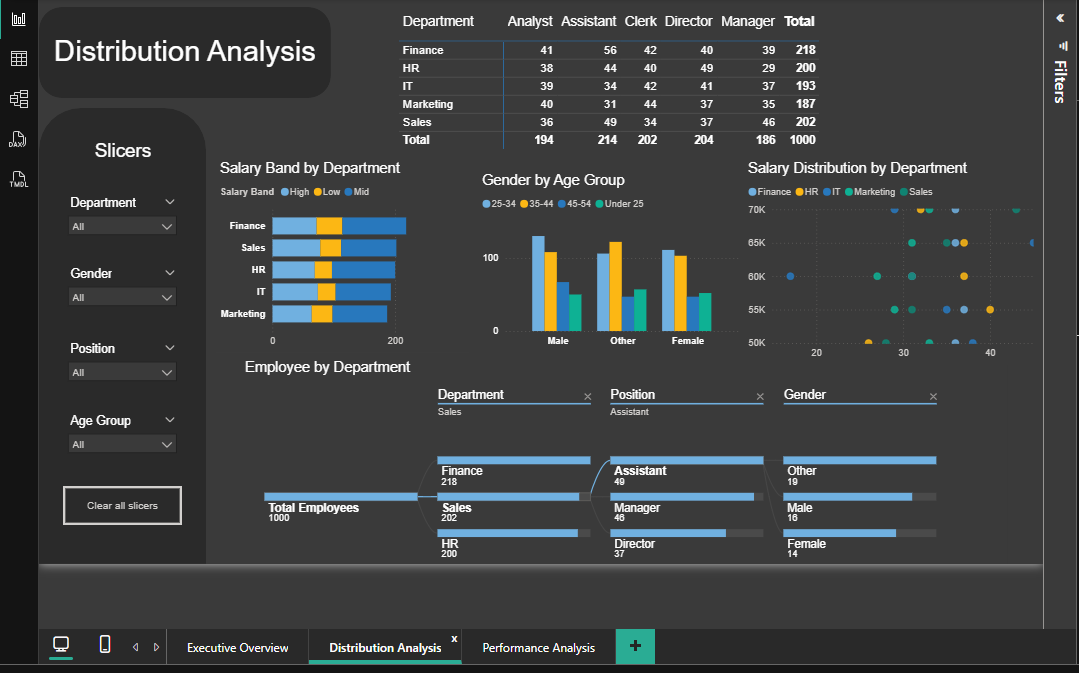

Layout of this report page (visuals, bound fields, positions):
{"tool":"powerbi","page":{"name":"Distribution Analysis","canvas":[1280,720],"ordinal":1},"visuals":[{"type":"clusteredColumnChart","title":" Gender by Age Group","fields":{"Y":["CountNonNull(working_sheet.EmployeeID)"],"Category":["working_sheet.Gender"],"Series":["working_sheet.Age Group"]},"box":[559.7,220.6,339.1,230.8],"z":0},{"type":"pivotTable","fields":{"Rows":["working_sheet.Department"],"Values":["working_sheet.Employee Count by Dept"],"Columns":["working_sheet.Position"]},"box":[453.9,10.2,550.8,191.2],"z":1000},{"type":"decompositionTreeVisual","title":"Employee by  Department","fields":{"ExplainBy":["working_sheet.Department","working_sheet.Position","working_sheet.Gender"],"Analyze":["working_sheet.Total Employees"]},"box":[257.5,459,976.6,261.4],"z":2000},{"type":"shape","box":[0,139,212.9,581.4],"z":3000},{"type":"slicer","fields":{"Values":["working_sheet.Department"]},"box":[26.8,246.1,159.4,67.6],"z":4000},{"type":"slicer","fields":{"Values":["working_sheet.Gender"]},"box":[26.8,336.6,159.4,61.2],"z":5000},{"type":"slicer","fields":{"Values":["working_sheet.Age Group"]},"box":[26.8,524,159.4,66.3],"z":6000},{"type":"slicer","fields":{"Values":["working_sheet.Position"]},"box":[26.8,432.2,159.4,67.6],"z":7000},{"type":"shape","box":[0,10.2,372.3,116],"z":8000},{"type":"actionButton","box":[30.6,620.9,151.7,49.7],"z":9000},{"type":"textbox","box":[12.7,39.5,346.8,57.4],"z":10000},{"type":"textbox","box":[56.1,174.7,102,45.9],"z":11000},{"type":"barChart","title":"Salary Band by Department","fields":{"Category":["working_sheet.Department"],"Series":["working_sheet.Salary Band"],"Y":["CountNonNull(working_sheet.EmployeeID)"]},"box":[225.7,205.3,322.5,246.1],"z":12000},{"type":"scatterChart","title":"Salary Distribution by Department","fields":{"X":["working_sheet.Total Employees"],"Y":["working_sheet.Salary"],"Series":["working_sheet.Department"]},"box":[898.8,205.3,381.2,261.4],"z":12001}]}

Visuals, with their boxes on the page's 1280x720 design canvas (x1, y1, x2, y2). These are canvas units, not pixel positions in the 1079x673 screenshot, which may show the page scaled, cropped or inside an application window:
" Gender by Age Group" clusteredColumnChart: [560, 221, 899, 451]
pivotTable - working_sheet.Department x working_sheet.Employee Count by Dept: [454, 10, 1005, 201]
"Employee by  Department" decompositionTreeVisual: [258, 459, 1234, 720]
shape: [0, 139, 213, 720]
slicer - working_sheet.Department: [27, 246, 186, 314]
slicer - working_sheet.Gender: [27, 337, 186, 398]
slicer - working_sheet.Age Group: [27, 524, 186, 590]
slicer - working_sheet.Position: [27, 432, 186, 500]
shape: [0, 10, 372, 126]
actionButton: [31, 621, 182, 671]
textbox: [13, 40, 360, 97]
textbox: [56, 175, 158, 221]
"Salary Band by Department" barChart: [226, 205, 548, 451]
"Salary Distribution by Department" scatterChart: [899, 205, 1280, 467]
